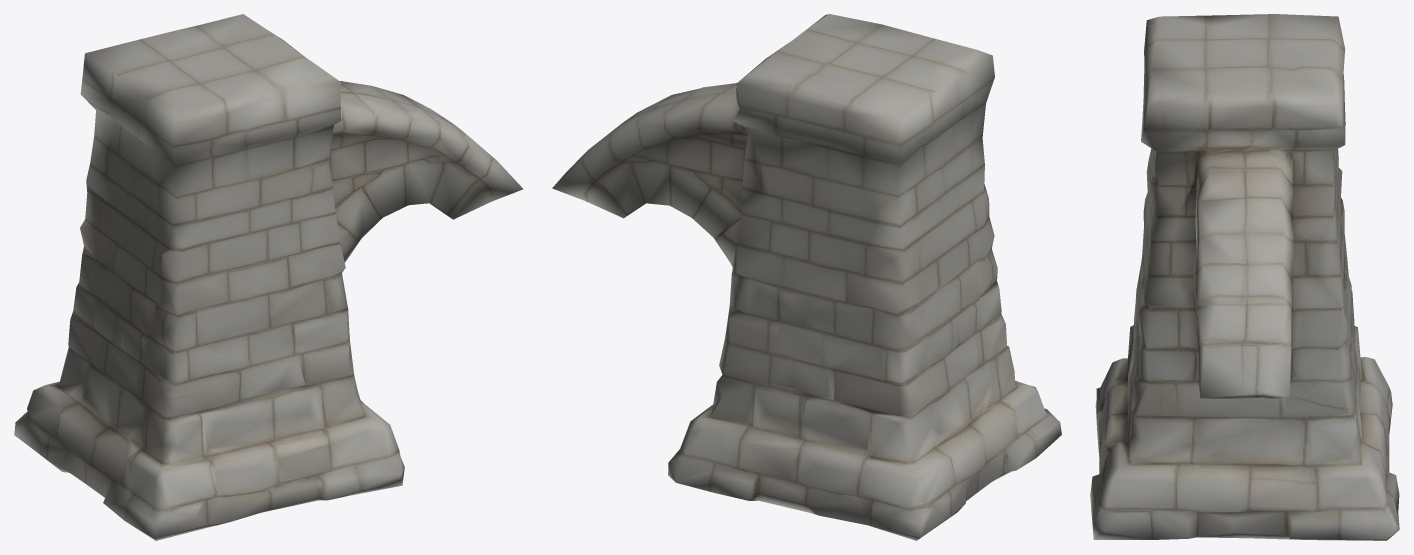
File: threshold-buttress.glb
3 views of the same model, side by side, from view 1: azimuth 30°, elevation 25°; view 2: azimuth 150°, elevation 25°; view 3: azimuth 270°, elevation 25° (orthographic). The views are drawn at different scales.
Parts seen in each view (by area): view 1: tripo_node_7e7e9a51-4127-4ec5-ad9c-46f4751938f4; view 2: tripo_node_7e7e9a51-4127-4ec5-ad9c-46f4751938f4; view 3: tripo_node_7e7e9a51-4127-4ec5-ad9c-46f4751938f4.
Part boxes in pixels (x1,y1,x2,y2): tripo_node_7e7e9a51-4127-4ec5-ad9c-46f4751938f4: [14, 14, 523, 540]; tripo_node_7e7e9a51-4127-4ec5-ad9c-46f4751938f4: [552, 14, 1061, 540]; tripo_node_7e7e9a51-4127-4ec5-ad9c-46f4751938f4: [1090, 14, 1399, 540].
Bounding box in the file's own units: 0.9792 × 0.8938 × 0.5889.
1 material, 1 textured.
